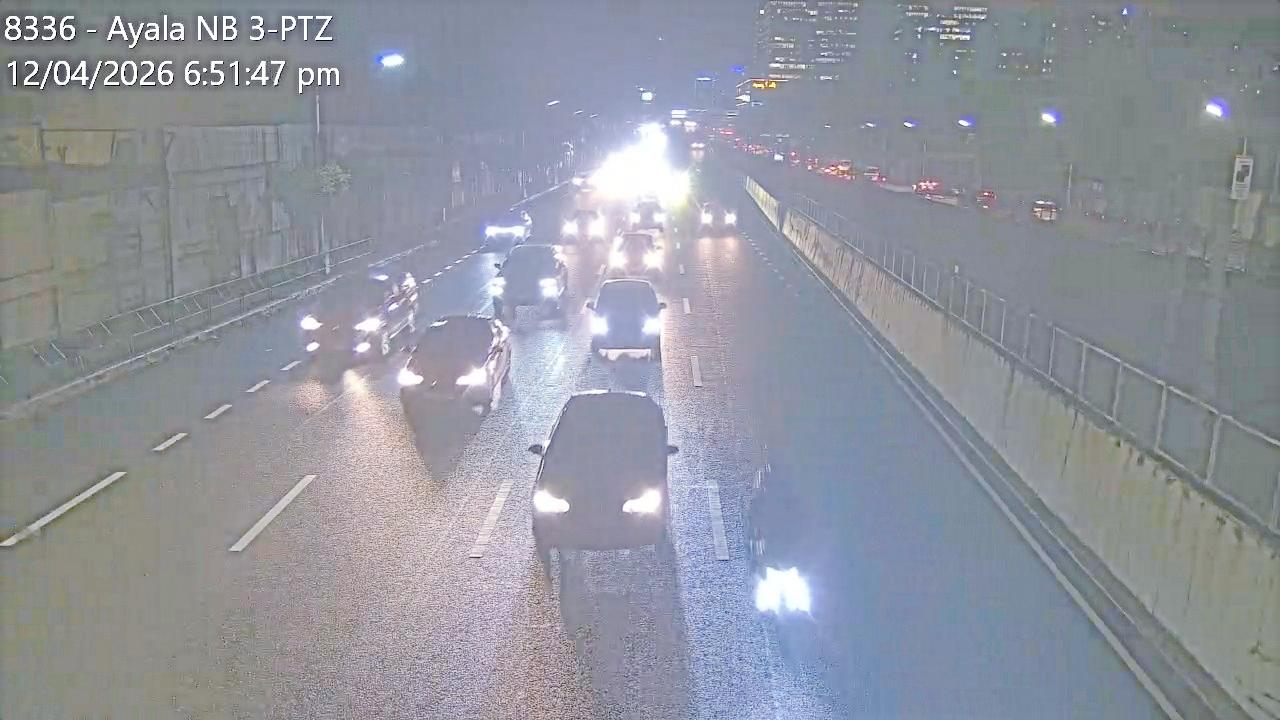Car: (525, 390, 681, 571), (398, 314, 512, 421), (302, 273, 413, 364), (584, 276, 666, 361), (492, 241, 570, 316), (606, 228, 664, 280), (481, 211, 530, 250), (563, 204, 604, 246), (627, 197, 666, 236), (697, 197, 737, 235)
Motor: (730, 464, 832, 658)
Not Accident: (592, 229, 668, 359), (477, 209, 569, 316)
